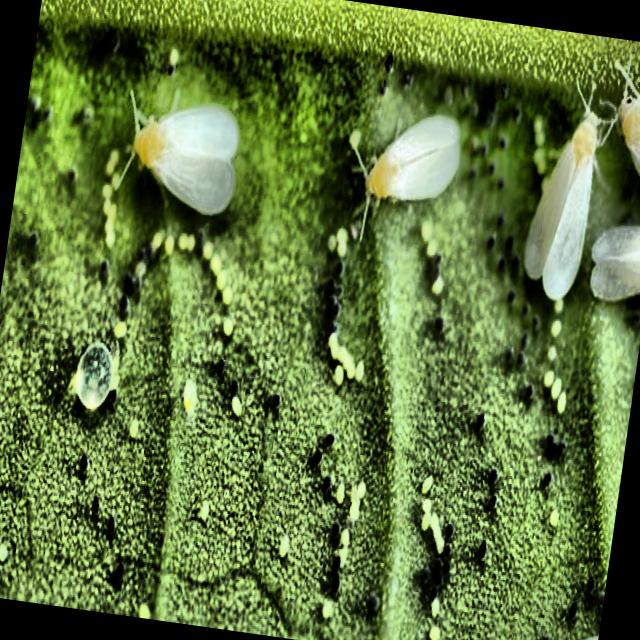egg: (102, 150, 121, 247), (349, 482, 365, 526), (183, 379, 198, 414), (534, 115, 545, 145), (422, 498, 432, 530), (338, 228, 349, 257), (535, 149, 546, 175), (152, 231, 165, 251), (180, 233, 195, 249), (129, 418, 140, 438), (280, 535, 290, 557), (211, 255, 222, 275), (551, 379, 561, 400), (165, 234, 175, 254), (217, 271, 226, 293), (114, 321, 126, 337), (200, 501, 210, 520), (423, 476, 433, 495), (335, 365, 344, 386), (336, 483, 345, 504), (432, 277, 443, 294), (557, 391, 565, 414), (551, 319, 561, 337), (232, 397, 242, 415), (429, 625, 441, 640), (223, 318, 233, 336), (422, 222, 431, 241), (328, 233, 337, 252), (223, 287, 233, 304), (139, 604, 151, 618), (170, 47, 179, 65), (203, 243, 213, 259), (545, 370, 554, 387), (423, 498, 432, 515), (431, 598, 439, 617), (323, 601, 333, 616), (550, 510, 559, 526), (341, 529, 349, 547), (356, 361, 364, 378), (548, 346, 557, 361), (0, 545, 8, 561), (555, 299, 563, 313)
nymph: (76, 342, 114, 409)
whitefly: (526, 111, 599, 299), (351, 115, 460, 240), (135, 105, 240, 213), (590, 225, 640, 301), (619, 94, 640, 175)
